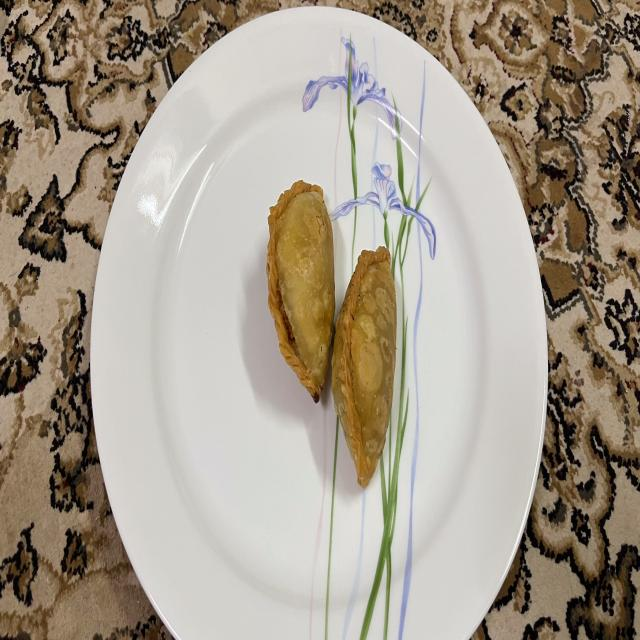karipap: (332, 247, 396, 487), (266, 180, 335, 402)
